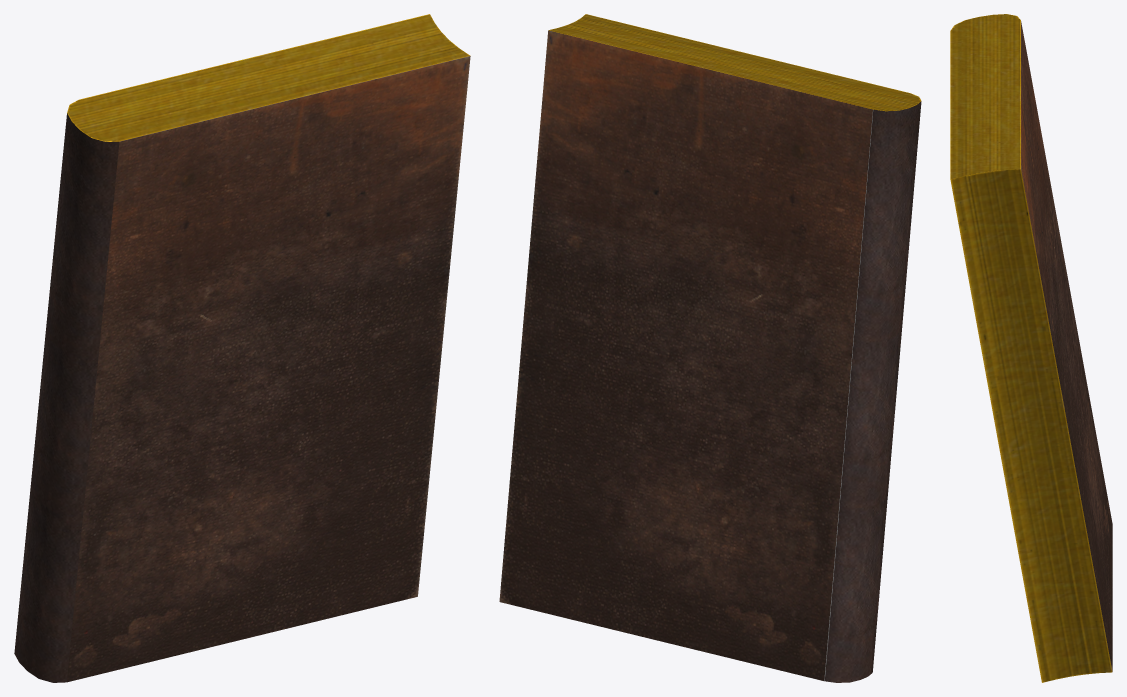
The model's file is Book.fbx.
3 renders of one model, left to right at view 1: azimuth 30°, elevation 25°; view 2: azimuth 150°, elevation 25°; view 3: azimuth 270°, elevation 25°, orthographic. The views are drawn at different scales.
Visible parts, largest first — view 1: Book7; view 2: Book7; view 3: Book7.
Boxes of the visible parts, x1,y1,x2,y2 form: Book7: (14, 14, 470, 682); Book7: (499, 14, 921, 682); Book7: (950, 14, 1112, 682).
Size of the model in its own units: 5.52 by 8.35 by 2.39.
Materials: 1 (1 with a texture image).
